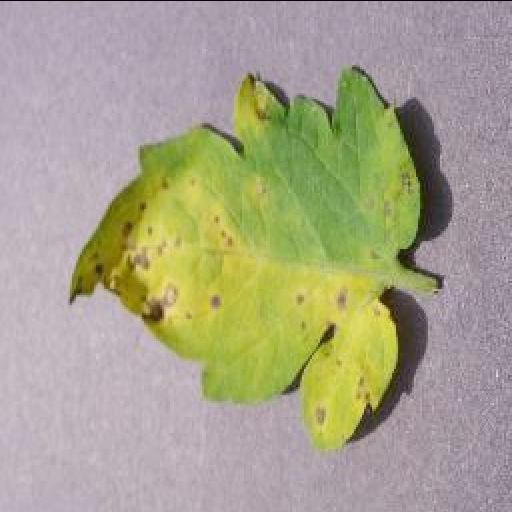disease_tomato: (70, 64, 426, 446)
